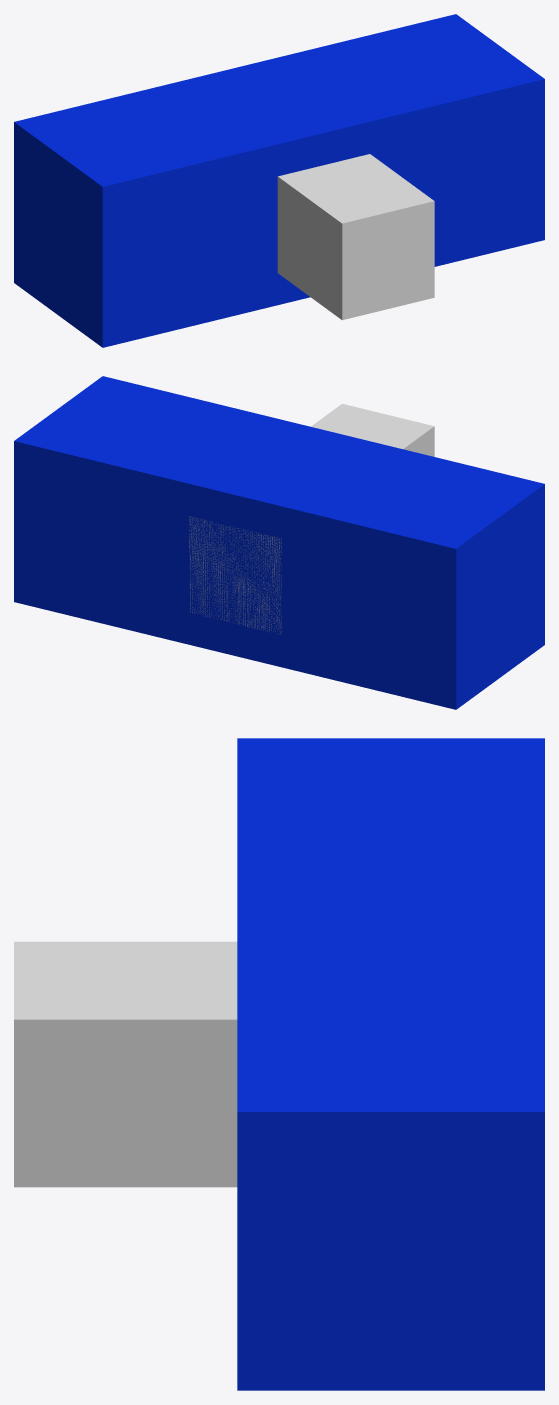
Rendered from Bolzen.fbx.
3 renders of one model, top to bottom at view 1: azimuth 30°, elevation 25°; view 2: azimuth 150°, elevation 25°; view 3: azimuth 270°, elevation 25°, orthographic. The views are drawn at different scales.
Parts seen in each view (by area): view 1: Bolzen, Cube.001; view 2: Bolzen, Cube.001; view 3: Bolzen, Cube.001.
Boxes of the visible parts, x1,y1,x2,y2 form: Bolzen: (14,14,544,347); Cube.001: (277,154,434,320); Bolzen: (14,376,544,709); Cube.001: (189,403,434,634); Bolzen: (237,738,544,1390); Cube.001: (14,941,237,1187).
Size of the model in its own units: 575 by 200 by 345.
